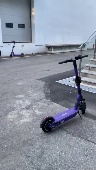beam: (40, 54, 93, 133), (9, 40, 25, 57)
